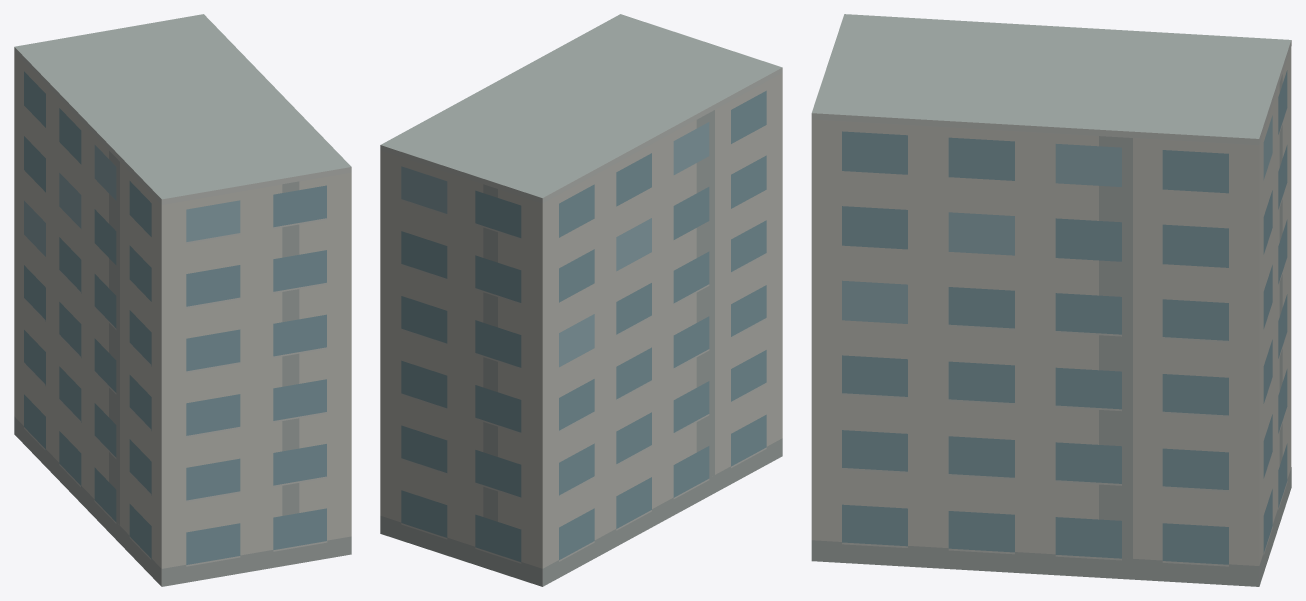
The model's file is survey-upis-32570073.glb.
3 renders of one model, left to right at view 1: azimuth 30°, elevation 25°; view 2: azimuth 150°, elevation 25°; view 3: azimuth 270°, elevation 25°, orthographic. The views are drawn at different scales.
Visible parts, largest first — view 1: survey-upis-32570073.tmp; view 2: survey-upis-32570073.tmp; view 3: survey-upis-32570073.tmp.
Boxes of the visible parts, <box> form: survey-upis-32570073.tmp: <box>14,14,351,586</box>; survey-upis-32570073.tmp: <box>380,14,782,586</box>; survey-upis-32570073.tmp: <box>811,14,1291,586</box>.
Size of the model in its own units: 10.3 by 17.2 by 16.71.
